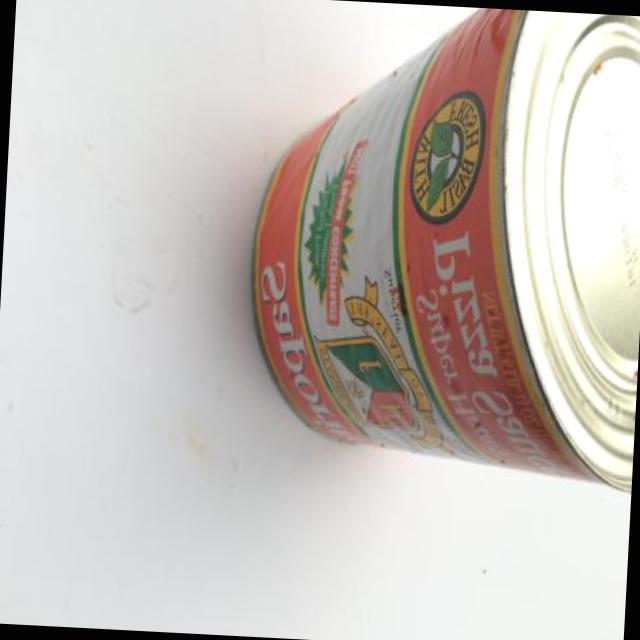nhom: (254, 8, 640, 496)
